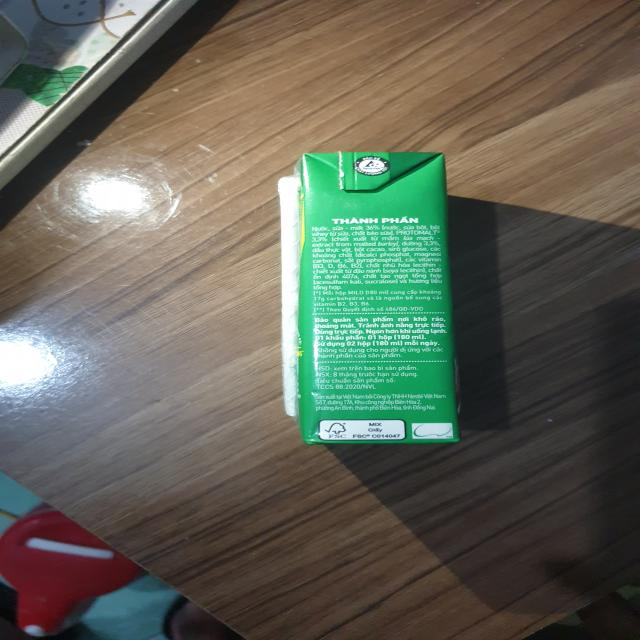Milo: (280, 155, 461, 453)
